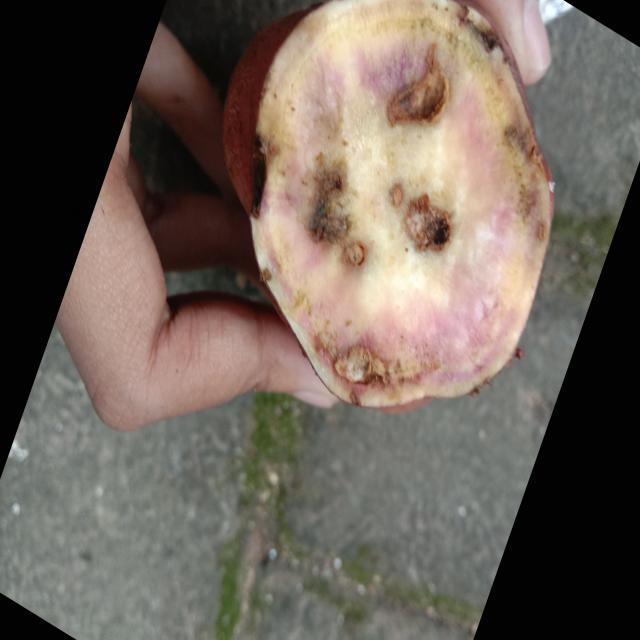Sick Sweet Potato_Tuber Rot: (224, 2, 554, 408)
